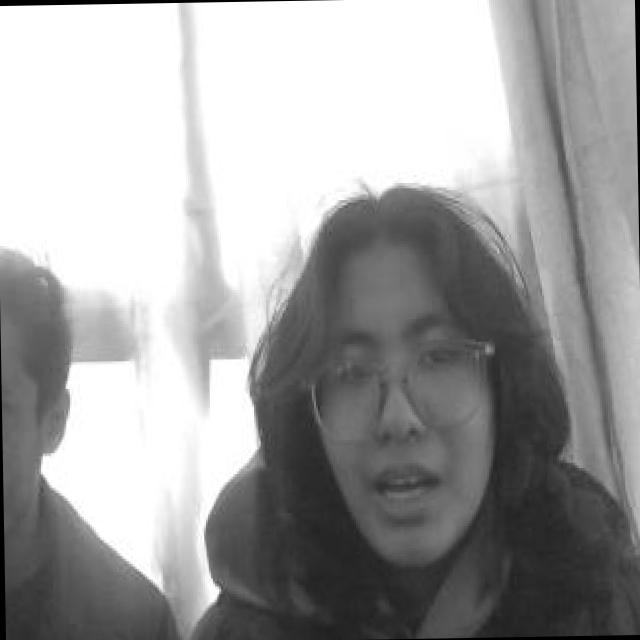Focused: (311, 246, 500, 556)
